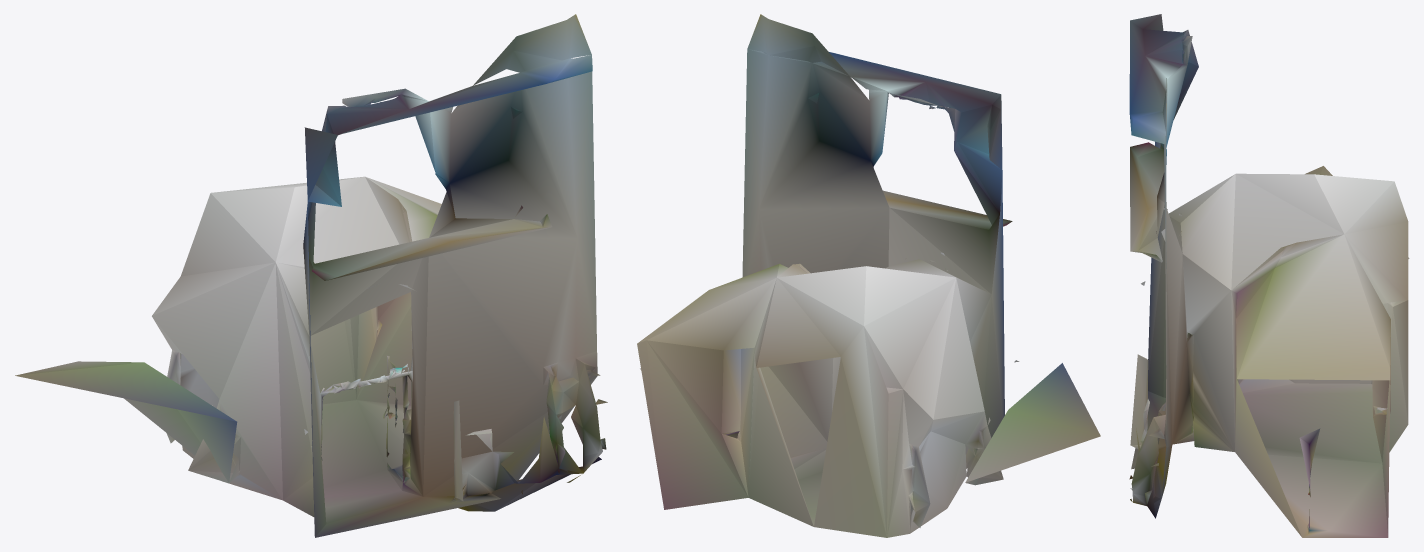
3 views of the same model, side by side, from view 1: azimuth 30°, elevation 25°; view 2: azimuth 150°, elevation 25°; view 3: azimuth 270°, elevation 25° (orthographic). The views are drawn at different scales.
Bounding box in the file's own units: 9.62 × 8.83 × 5.03.
